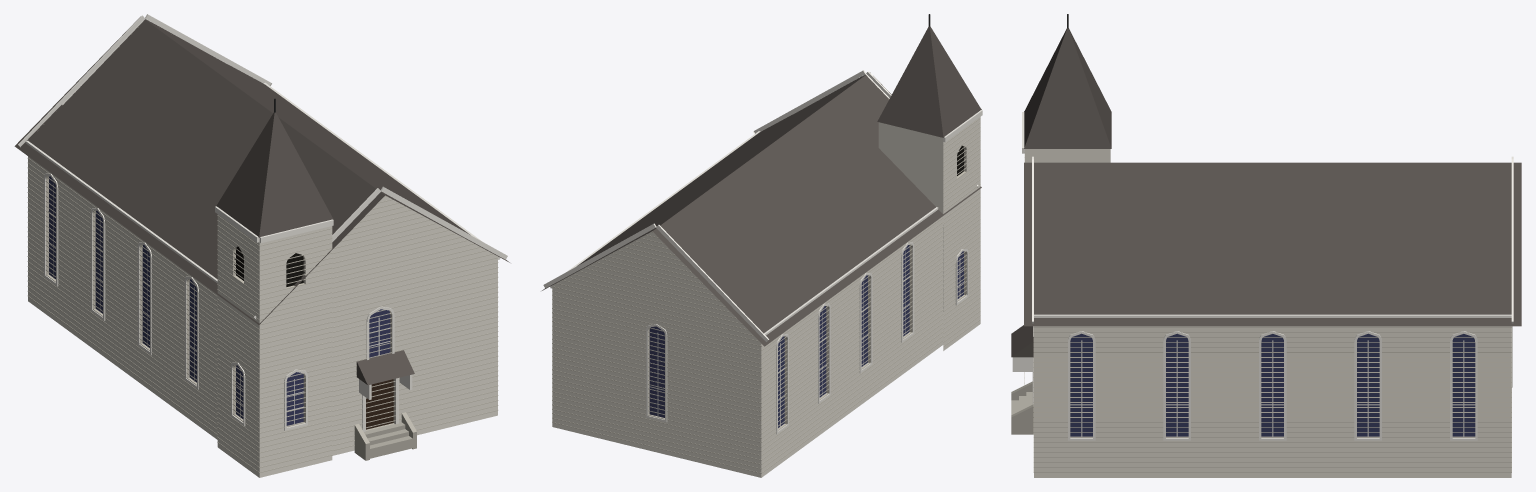
The model's file is ch-st-johns-baptist-1961.glb.
The picture shows the model from 3 angles, left to right: view 1: azimuth 30°, elevation 25°; view 2: azimuth 150°, elevation 25°; view 3: azimuth 270°, elevation 25°; orthographic projection. The views are drawn at different scales.
Visible parts, largest first — view 1: ch_brick, ch_roof, ch_brick2, ch_trim, ch_roof2, ch_stain, ch_conc, ch_door, ch_shadow; view 2: ch_brick, ch_roof, ch_brick2, ch_trim, ch_roof2, ch_stain; view 3: ch_roof, ch_brick, ch_brick2, ch_stain, ch_trim, ch_roof2, ch_conc.
Part boxes in pixels (box(x1,y1,x2,y2)): ch_brick: box(28, 156, 497, 477); ch_roof: box(14, 16, 509, 324); ch_brick2: box(27, 27, 498, 472); ch_trim: box(18, 14, 507, 431); ch_roof2: box(216, 112, 414, 385); ch_stain: box(49, 176, 390, 425); ch_conc: box(354, 412, 416, 460); ch_door: box(366, 379, 393, 429); ch_shadow: box(236, 246, 303, 286); ch_brick: box(552, 117, 980, 477); ch_roof: box(542, 72, 981, 346); ch_brick2: box(552, 87, 980, 473); ch_trim: box(543, 70, 982, 434); ch_roof2: box(877, 26, 981, 137); ch_stain: box(649, 245, 963, 427); ch_roof: box(1024, 162, 1521, 326); ch_brick: box(1025, 149, 1511, 477); ch_brick2: box(1024, 152, 1511, 472); ch_stain: box(1070, 333, 1475, 436); ch_trim: box(1012, 112, 1513, 440); ch_roof2: box(1011, 28, 1111, 357); ch_conc: box(1011, 381, 1033, 434).
Bounding box in the file's own units: 11.89 × 15.95 × 20.3.
